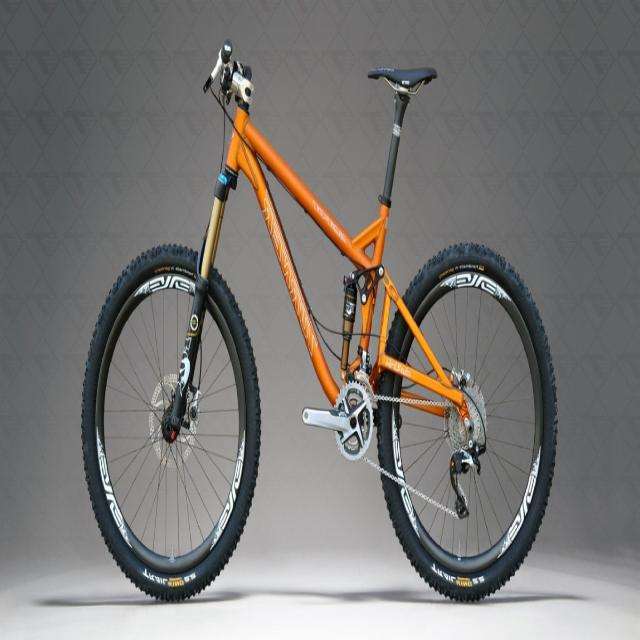bicycle: (81, 42, 558, 600)
